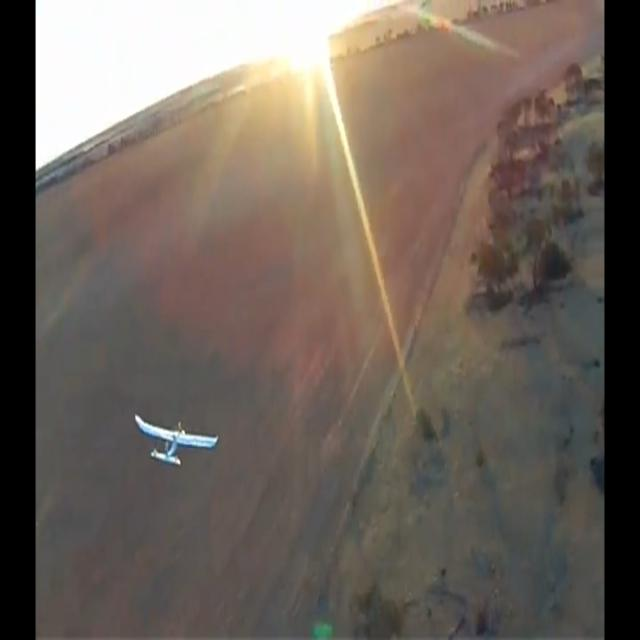iha: (167, 414, 186, 468)
